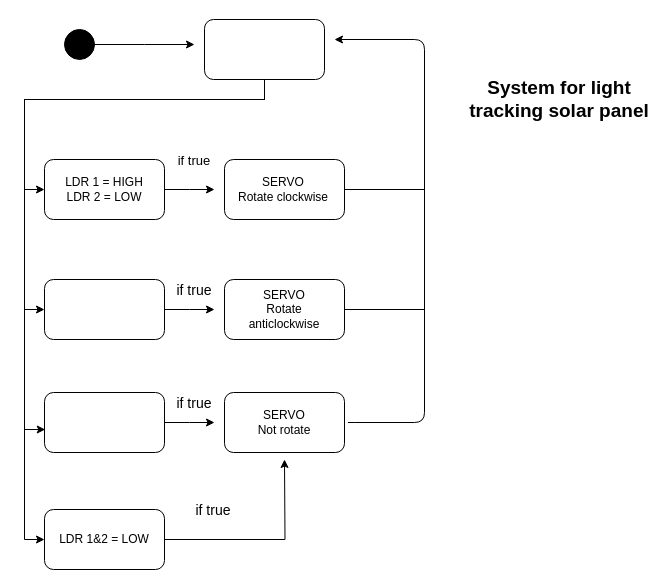
Some shapes in this 672 by 587 pixel diagram are drawn without their labels. The shapes that lost their labels are listed below. From the top down, each one's centre as x and y in pixels, then its label:
At point 264,49: "ARDUINO Read LDR".
At point 104,309: "LDR 1 = LOW LDR 2 = HIGH".
At point 104,422: "LDR 1&2 = HIGH".
